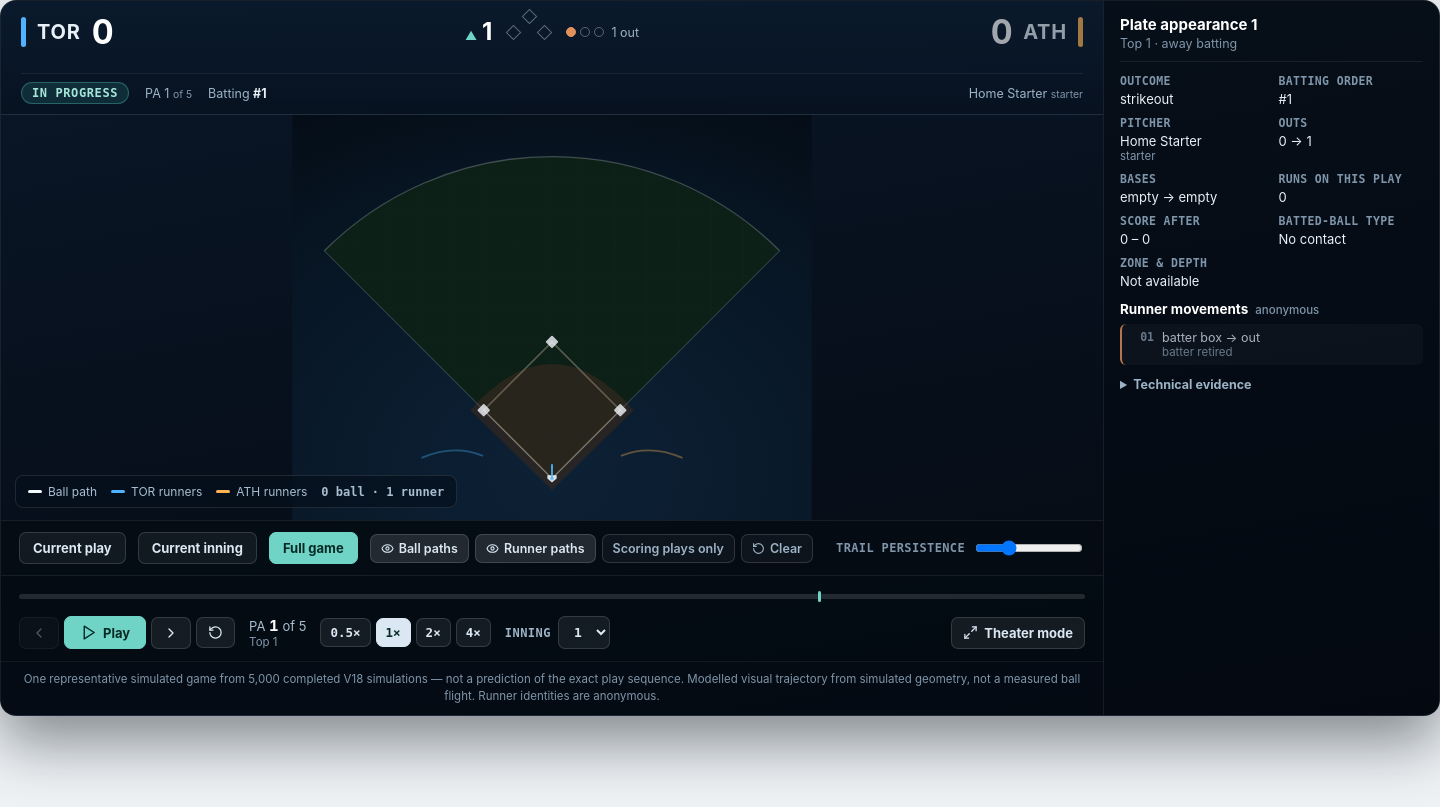
Test case: the information panel stays honest › attributes runner movement to a template, never to tracking
The width and height of the screenshot is (1440, 807).
Set the slider to "2" at (552, 618), box [1,575,1103,661]
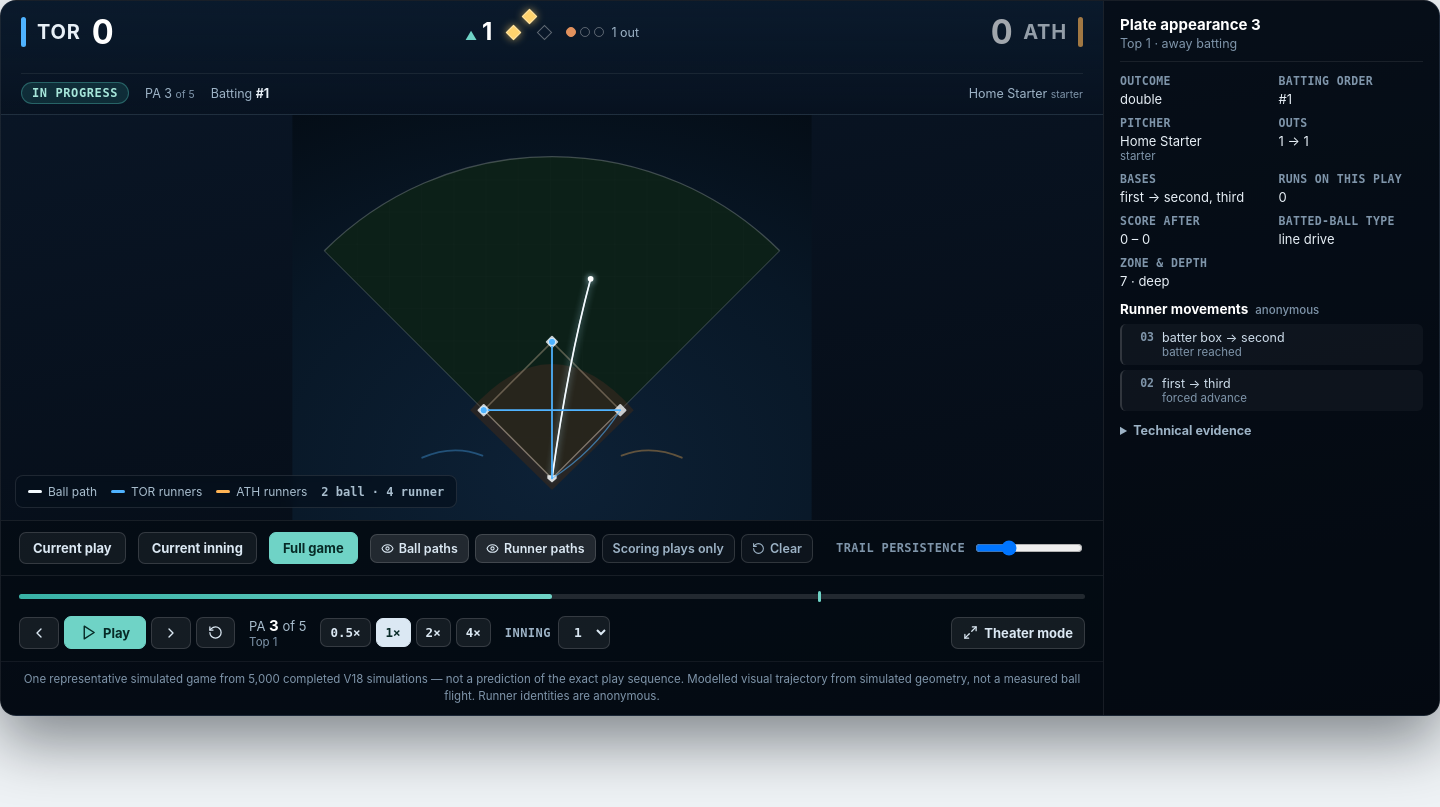
Click the heading "Technical evidence" at (1192, 430), box [1133,423,1252,438]
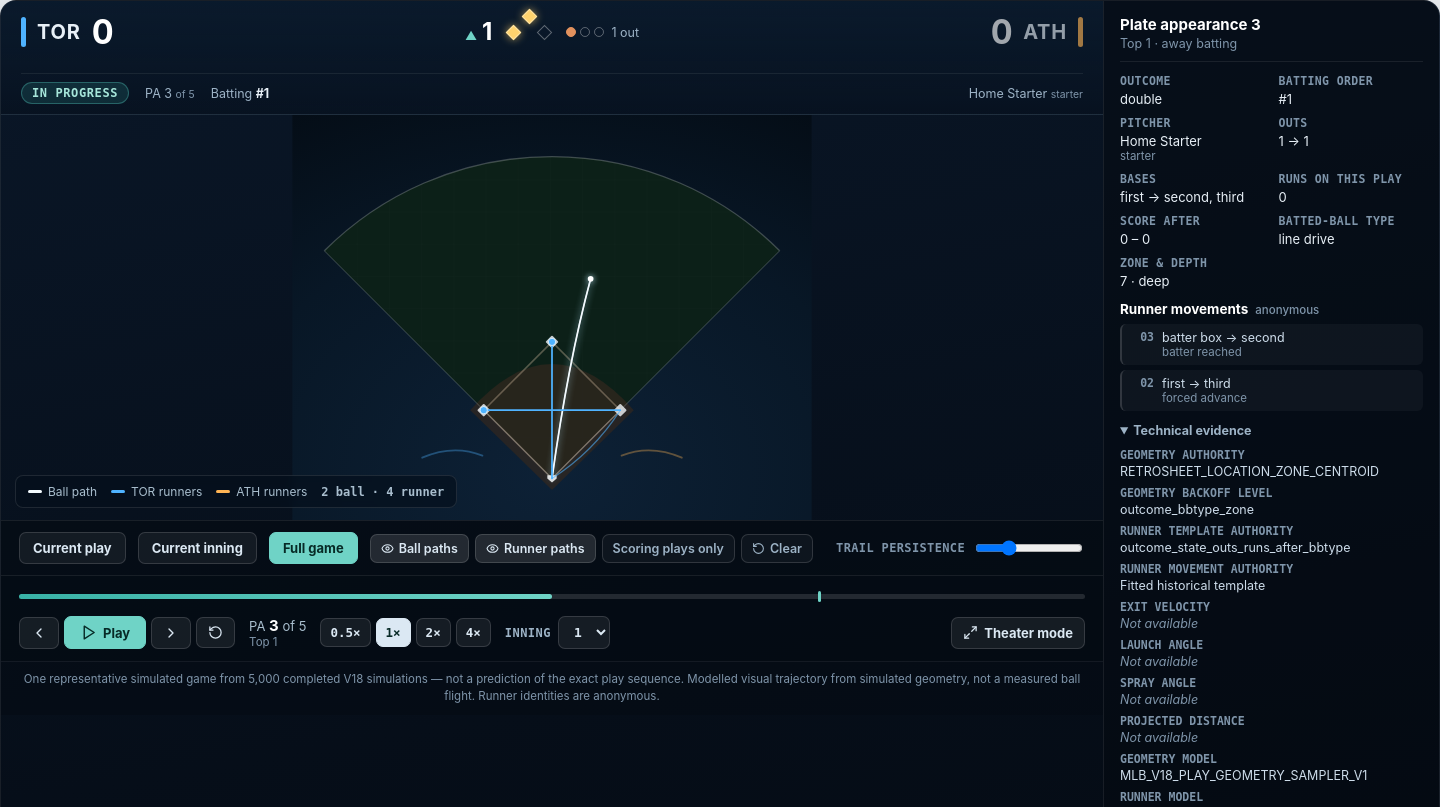
Expected: the text "Fitted historical template" is shown, [1120,578,1265,593]
